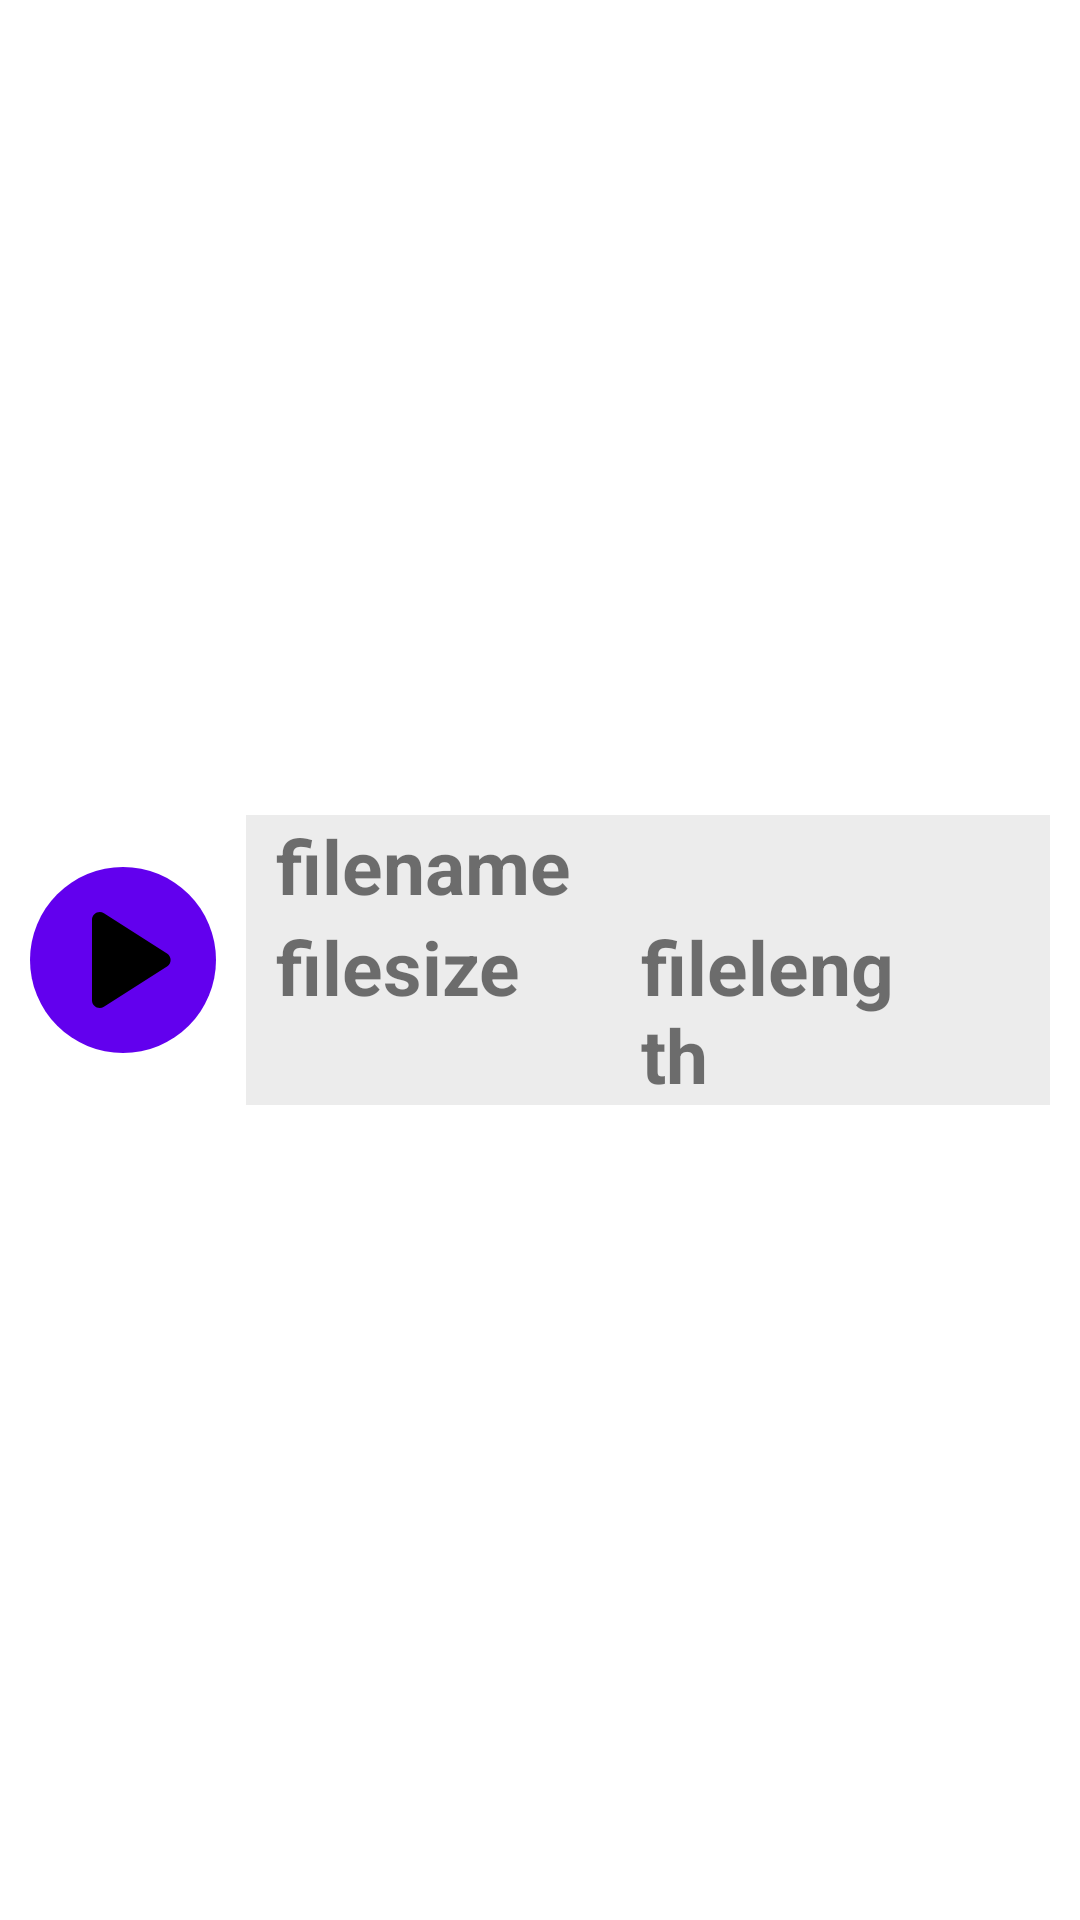

Icons on this 1080 × 1920 Android screen, each with the point to tap as (x=x, y=y):
play audio: (x=123, y=960)
